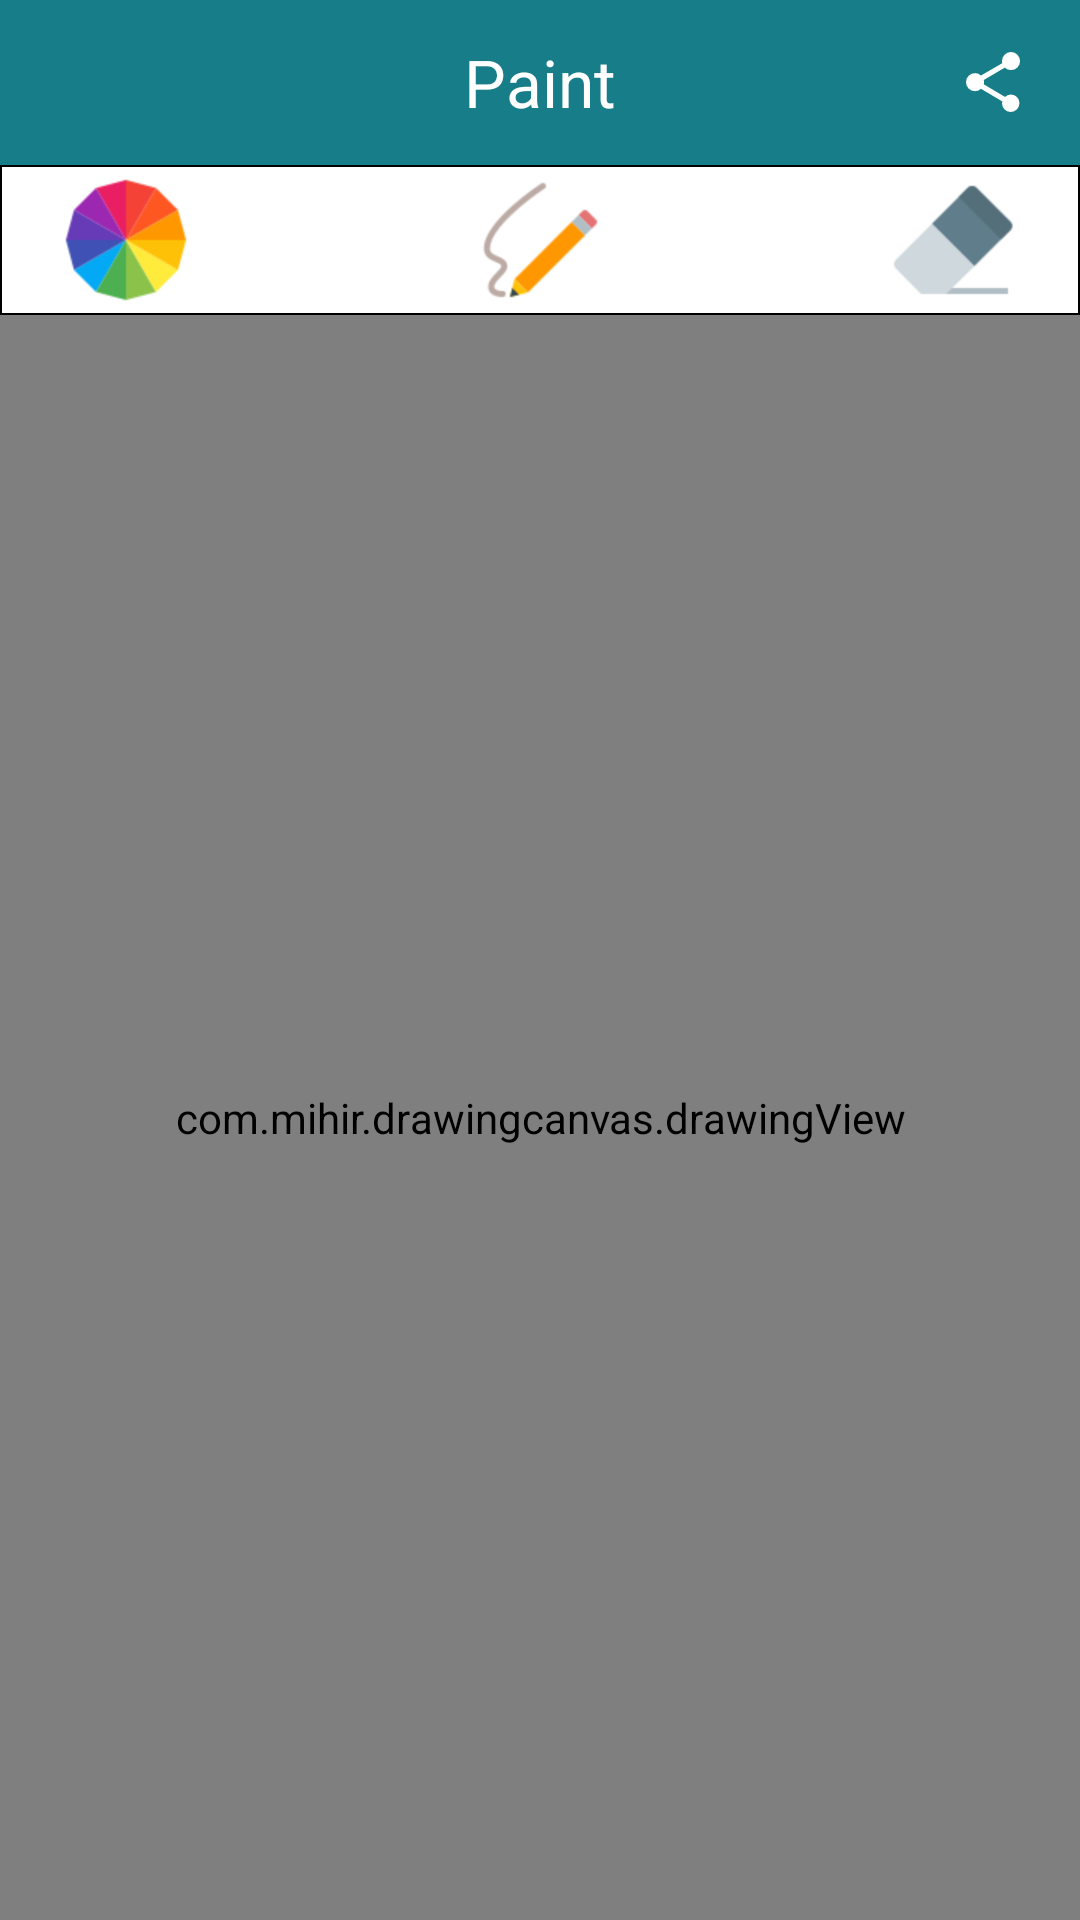

Icon bounding boxes for this 1080 x 1920 phone screenshot, format (x1, y1, x2, y2):
paint: (65, 179, 187, 301)
pencil: (483, 183, 598, 298)
rubber: (894, 185, 1013, 294)
share: (966, 52, 1020, 112)
